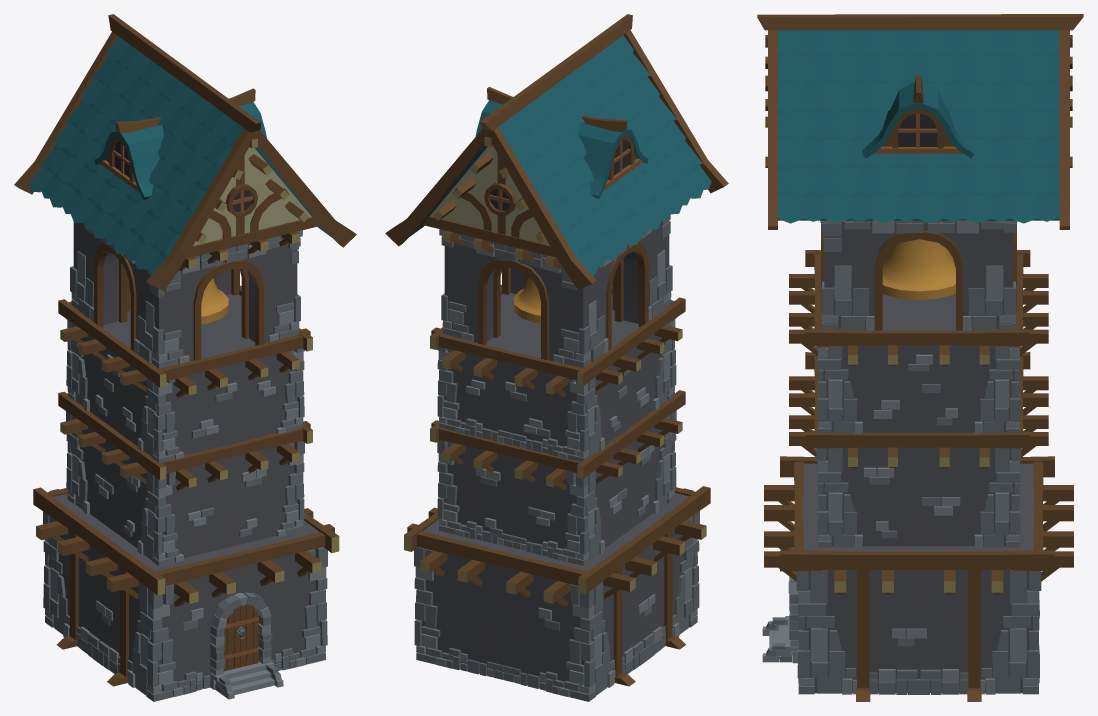
File: bell-tower.glb
3 renders of one model, left to right at view 1: azimuth 30°, elevation 25°; view 2: azimuth 150°, elevation 25°; view 3: azimuth 270°, elevation 25°, orthographic. The views are drawn at different scales.
Parts seen in each view (by area): view 1: Bell_Tower; view 2: Bell_Tower; view 3: Bell_Tower.
Boxes of the visible parts, bbox=[...] form: Bell_Tower: bbox=[14, 14, 356, 701]; Bell_Tower: bbox=[385, 14, 728, 701]; Bell_Tower: bbox=[757, 14, 1083, 701].
Size of the model in its own units: 1.94 by 4.76 by 2.23.
1 material, 1 textured.
